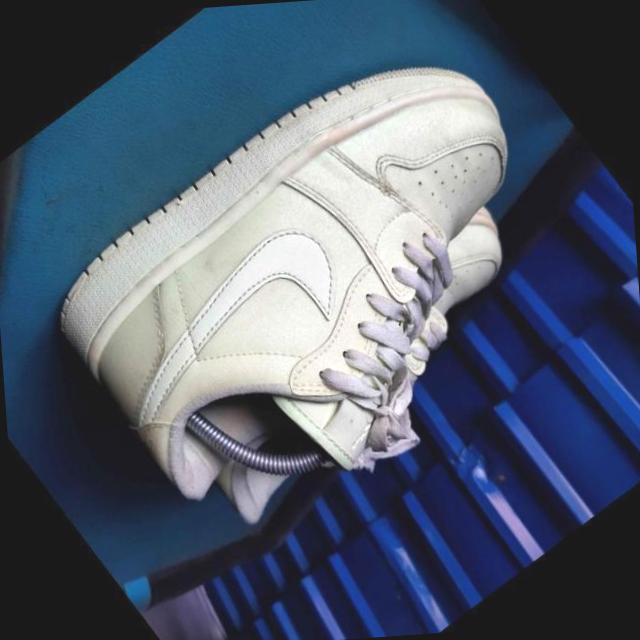nike_fake_jordan: (13, 0, 638, 574)
